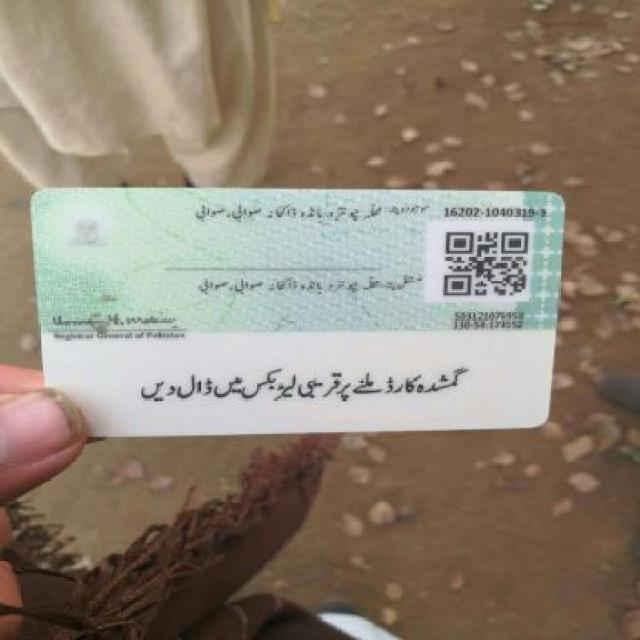Back: (26, 180, 568, 435)
